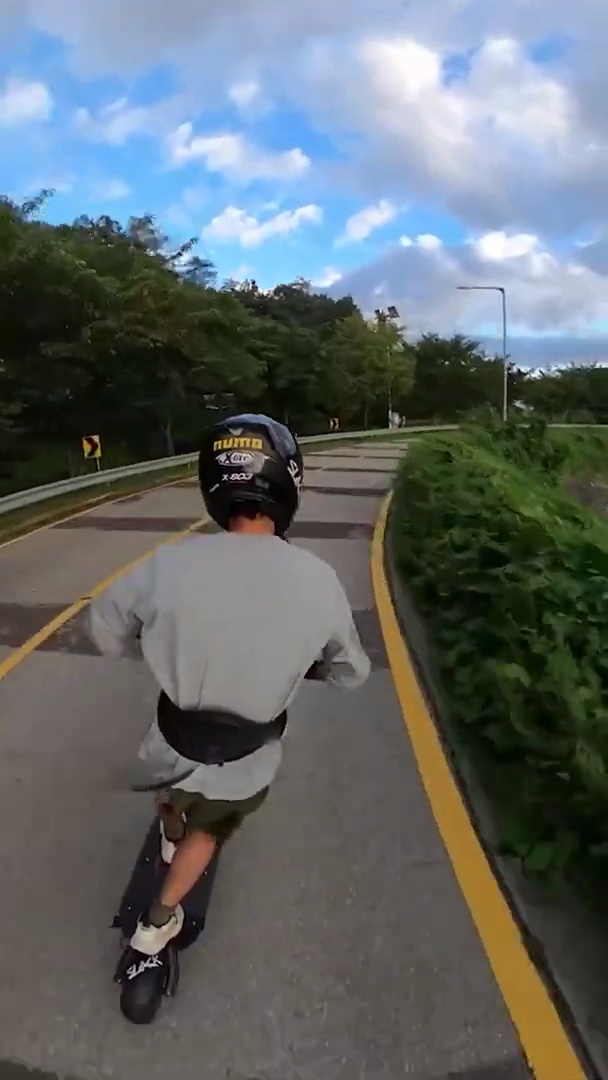helmet: (71, 409, 378, 1028)
